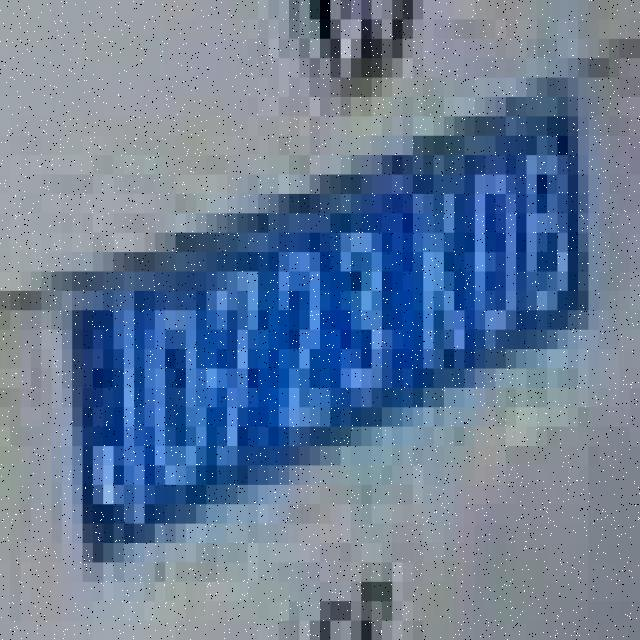licenseplate: (52, 47, 608, 590)
